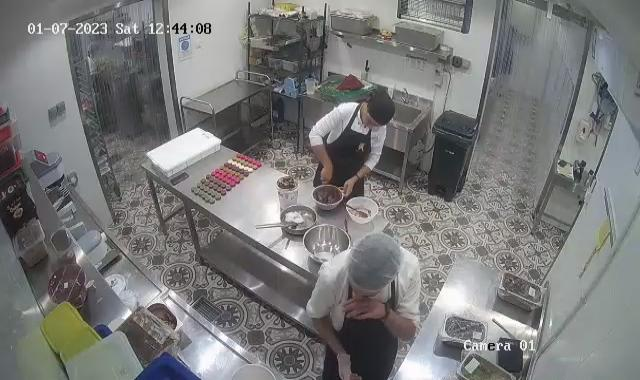hairnet: (348, 229, 406, 297)
no_hairnet: (364, 92, 400, 129)
